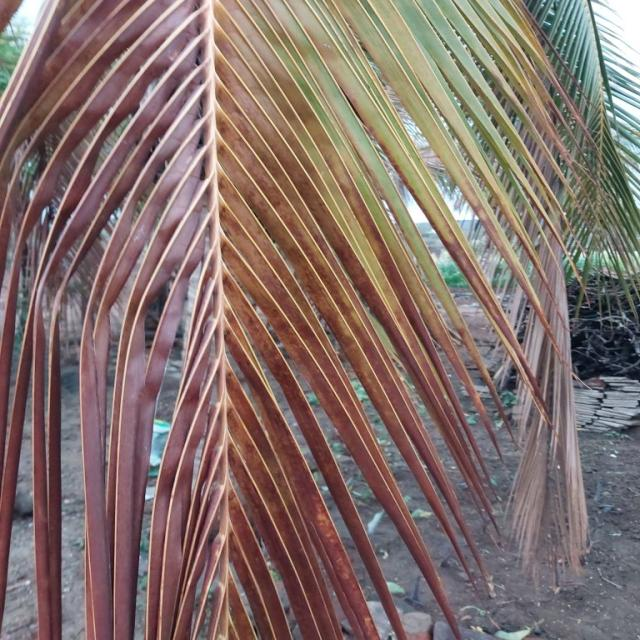gray leaf spot: (46, 15, 227, 628)
